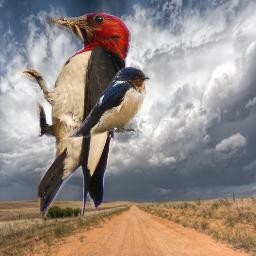Swallow: (68, 66, 151, 139)
Woodpecker: (22, 12, 131, 220)
